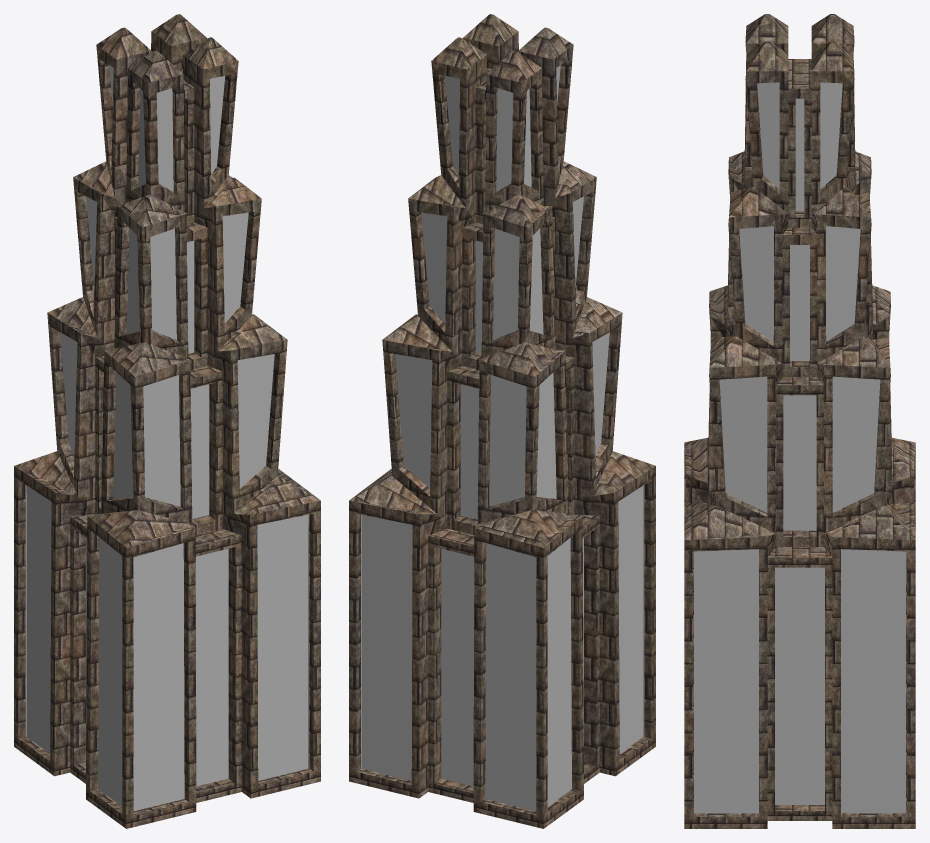
The model's file is ALIEN_TOWER.fbx.
3 views of the same model, side by side, from view 1: azimuth 30°, elevation 25°; view 2: azimuth 150°, elevation 25°; view 3: azimuth 270°, elevation 25° (orthographic). The views are drawn at different scales.
Visible parts, largest first — view 1: TOWER; view 2: TOWER; view 3: TOWER.
Part boxes in pixels (left/top/right/bottom): TOWER: left=14, top=14, right=320, bottom=828; TOWER: left=349, top=14, right=655, bottom=828; TOWER: left=684, top=14, right=915, bottom=828.
Bounding box in the file's own units: 2386 × 8554 × 2386.
